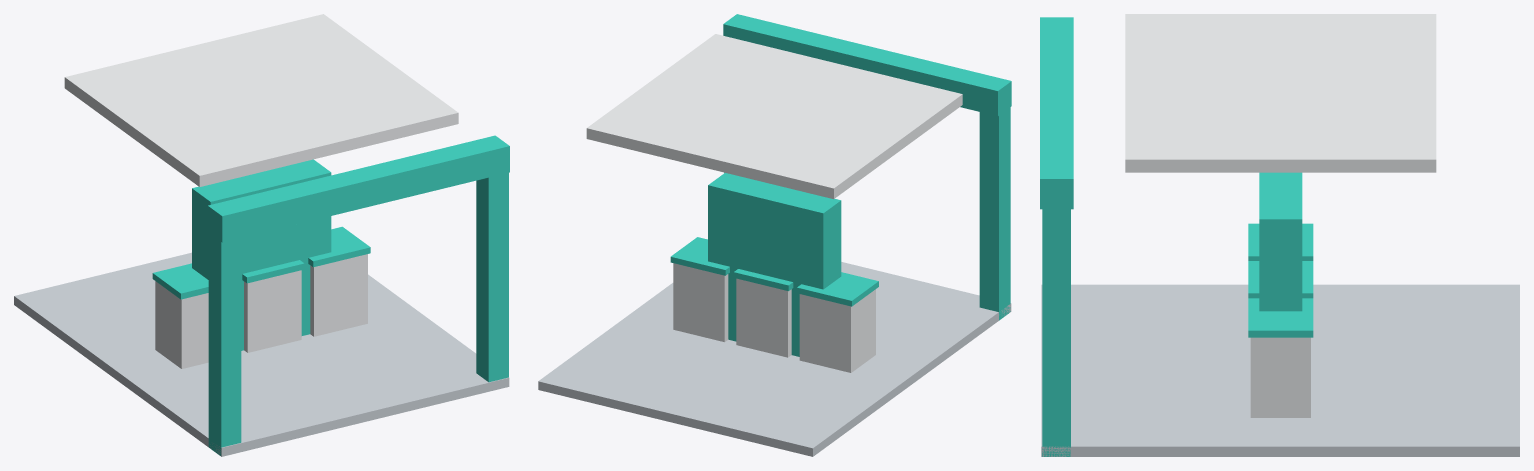
3 renders of one model, left to right at view 1: azimuth 30°, elevation 25°; view 2: azimuth 150°, elevation 25°; view 3: azimuth 270°, elevation 25°, orthographic. The views are drawn at different scales.
Parts seen in each view (by area): view 1: Exhibition Booth Concept; view 2: Exhibition Booth Concept; view 3: Exhibition Booth Concept.
Part boxes in pixels (x1,y1,x2,y2): Exhibition Booth Concept: (14,14,509,456); Exhibition Booth Concept: (538,14,1011,456); Exhibition Booth Concept: (1040,14,1519,456).
Bounding box in the file's own units: 4 × 3.34 × 5.02.
